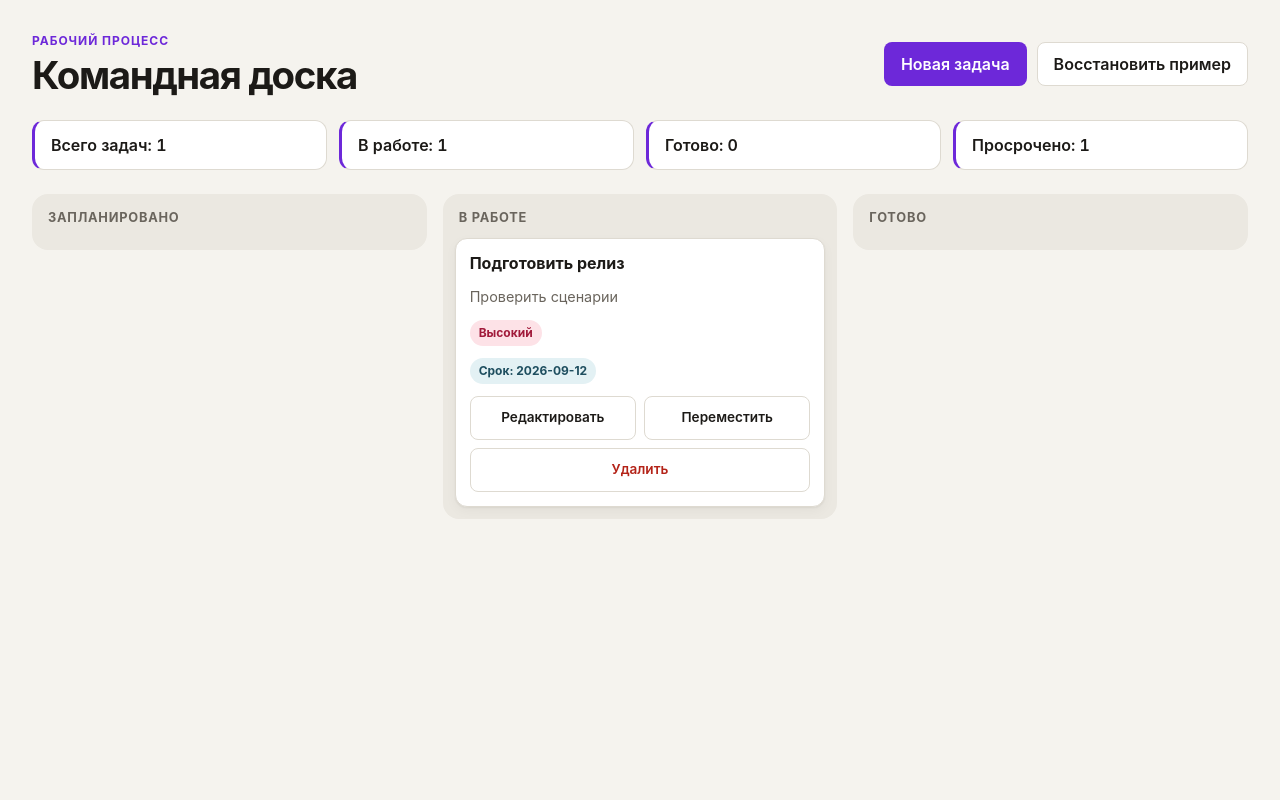
App › overdue counter › updates after editing a due date
The width and height of the screenshot is (1280, 800).
Check: the text "Просрочено: 1" is shown, box [953,120,1248,170]
Click the button with aria-label "Редактировать: Подготовить релиз": (553, 418) [470,396,636,440]
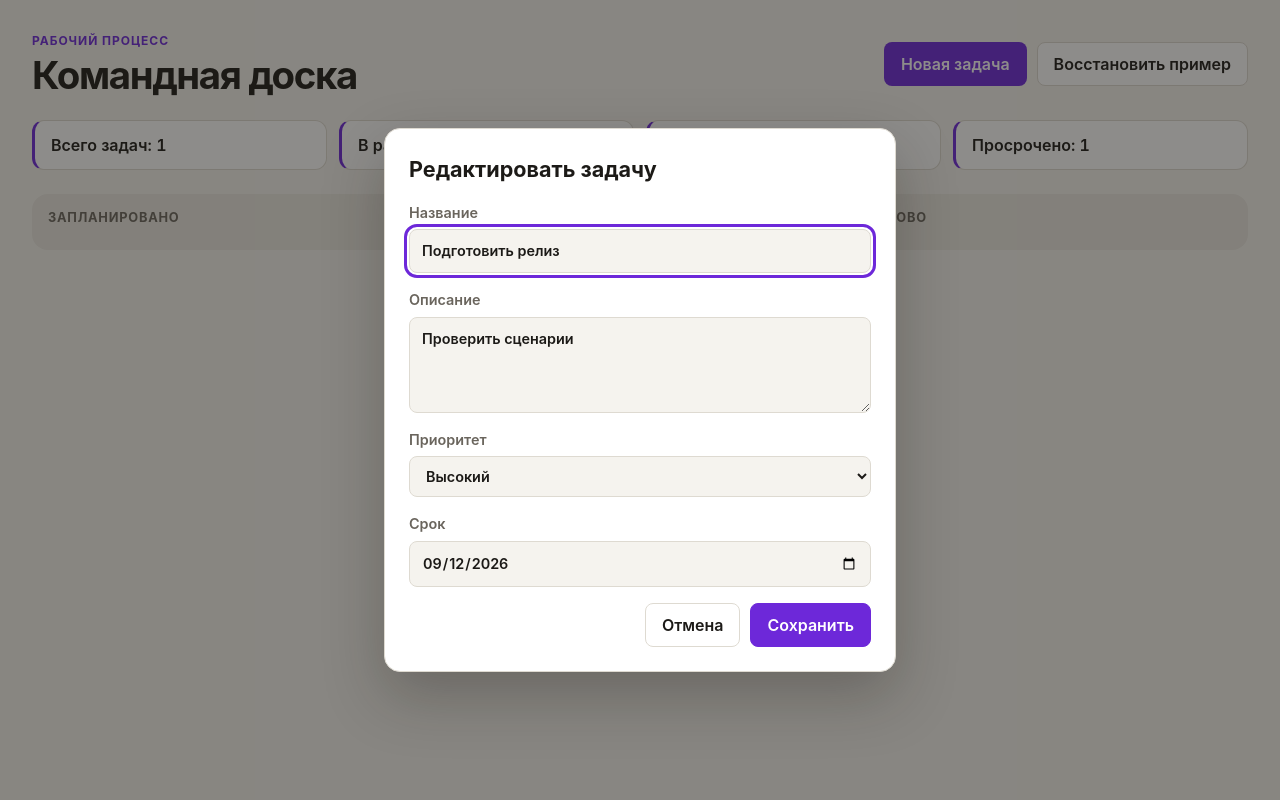
Clear the date field labelled "Срок": (640, 564) [409,541,871,586]
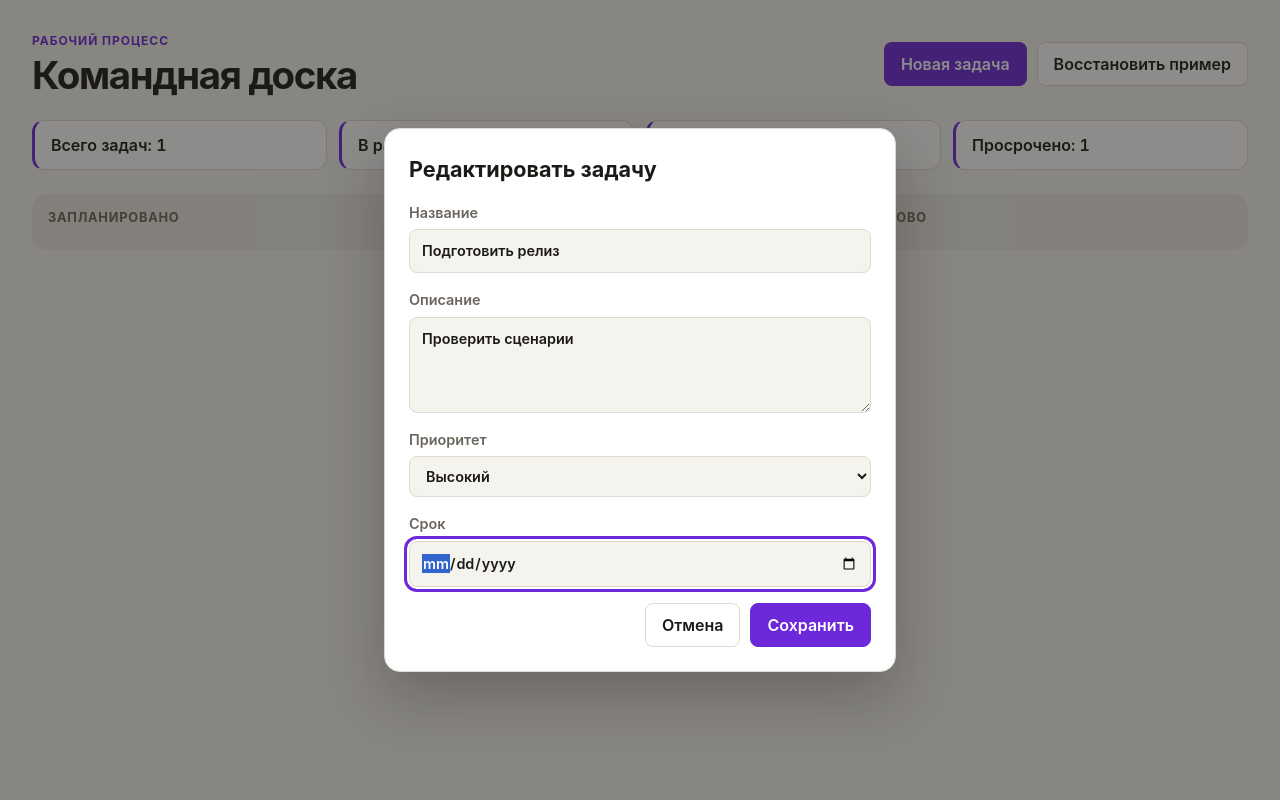
Click the button "Сохранить": (811, 624) [750,602,871,646]
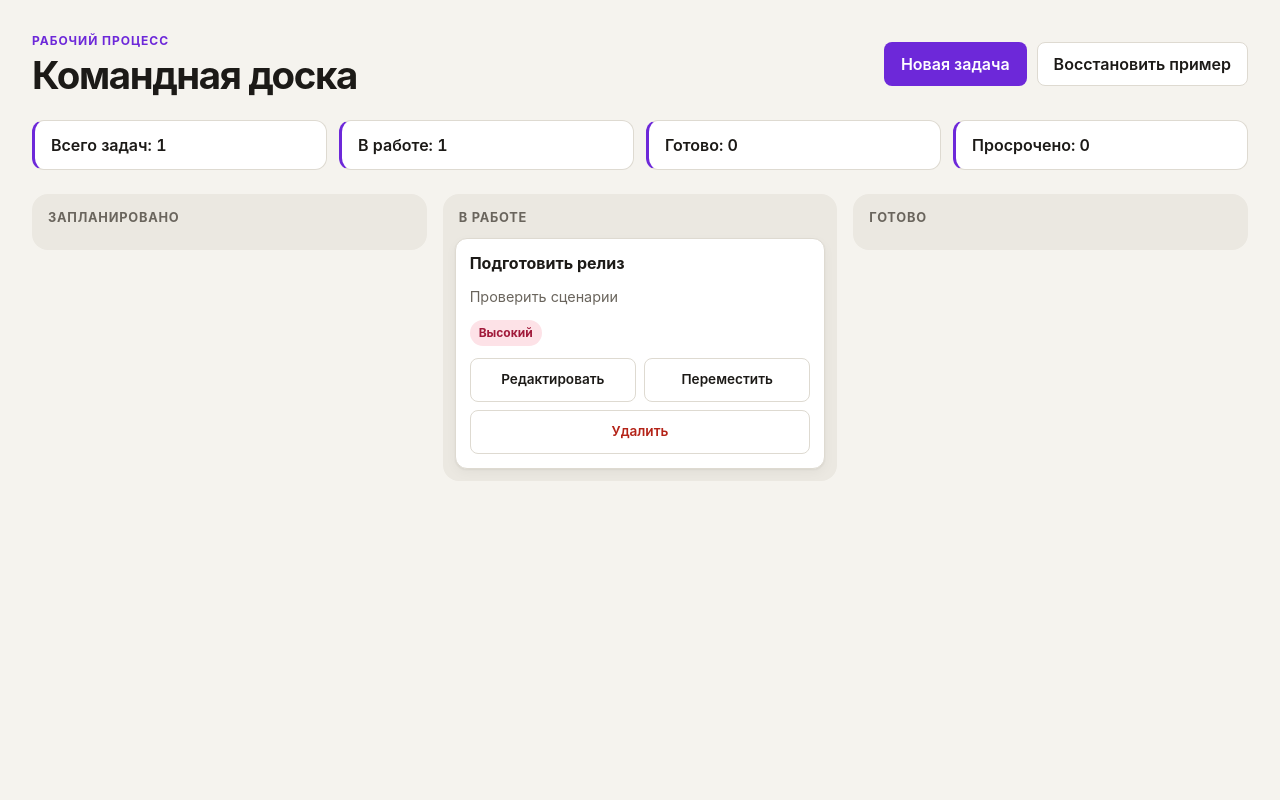
Check: the text "Просрочено: 0" is shown, box [953,120,1248,170]
